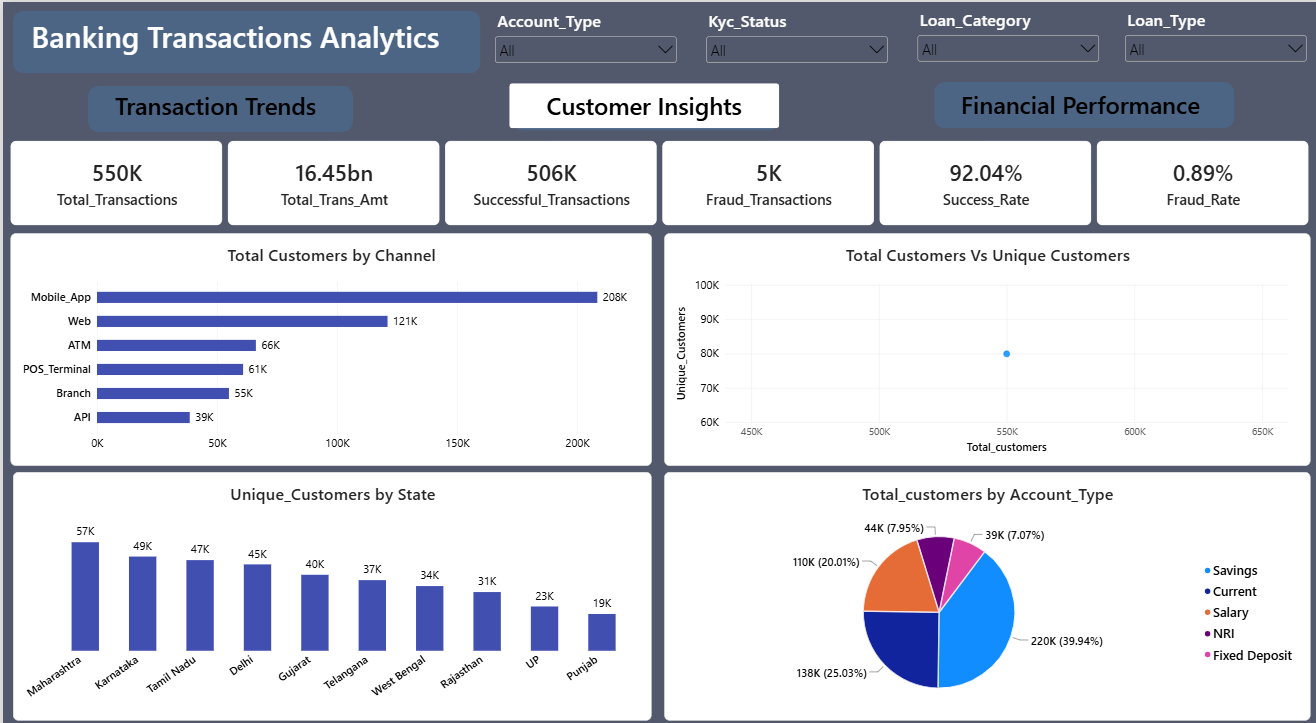

The page's visual inventory and layout, read from the dashboard file:
{"tool":"powerbi","page":{"name":"Customer Insights","canvas":[1920,1060],"ordinal":1},"visuals":[{"type":"shape","box":[14.5,12.7,680,90.9],"z":0},{"type":"textbox","box":[14.5,20,647.3,76.4],"z":1000},{"type":"cardVisual","fields":{"Data":["banking_transactions bank.Total_Transactions","banking_transactions bank.Total_Trans_Amt","banking_transactions bank.Successful_Transactions","banking_transactions bank.Fraud_Transactions","banking_transactions bank.Success_Rate","banking_transactions bank.Fraud_Rate"]},"box":[10.9,201.8,1890.9,123.6],"z":2000},{"type":"shape","box":[123.6,121.8,385.5,67.3],"z":3000},{"type":"textbox","box":[136.4,125.5,361.8,63.6],"z":4000},{"type":"shape","box":[1354.5,116.4,436.4,67.3],"z":5000},{"type":"shape","box":[741.7,119.7,386.5,67.3],"z":5000,"group":"g1"},{"type":"textbox","box":[1378.2,121.8,390.9,63.6],"z":6000},{"type":"textbox","box":[747.7,122.1,367.3,63.6],"z":6000,"group":"g1"},{"type":"slicer","fields":{"Values":["banking_transactions bank.Account_Type"]},"box":[710.9,10.9,273.8,88.1],"z":7000},{"type":"slicer","fields":{"Values":["banking_transactions bank.Loan_Category"]},"box":[1325.5,9.1,273.8,88.1],"z":8000},{"type":"slicer","fields":{"Values":["banking_transactions bank.Kyc_Status"]},"box":[1018.2,10.9,273.8,88.1],"z":9000},{"type":"slicer","fields":{"Values":["banking_transactions bank.Loan_Type"]},"box":[1627.3,9.1,273.8,88.1],"z":10000},{"type":"group","id":"g1","title":"Group 1","box":[741.7,119.7,386.5,67.3],"z":11000},{"type":"clusteredColumnChart","fields":{"Category":["banking_transactions bank.State"],"Y":["banking_transactions bank.Unique_Customers"]},"box":[14.5,683.6,929.1,361.8],"z":13000},{"type":"clusteredBarChart","title":"Total Customers by Channel","fields":{"Category":["banking_transactions bank.Channel"],"Y":["banking_transactions bank.Total_customers"]},"box":[10.9,336.4,932.7,338.2],"z":14000},{"type":"scatterChart","title":"Total Customers Vs Unique Customers","fields":{"X":["banking_transactions bank.Total_customers"],"Y":["banking_transactions bank.Unique_Customers"]},"box":[961.8,336.4,940,338.2],"z":15000},{"type":"pieChart","fields":{"Category":["banking_transactions bank.Account_Type"],"Y":["banking_transactions bank.Total_customers"]},"box":[961.8,683.6,940,361.8],"z":16000}]}

Visuals, with their boxes in screenshot pixels (x1, y1, x2, y2), scaled from the page's 1920x1060 canvas onto the 1316x723 screenshot:
shape: bbox=(10, 9, 476, 71)
textbox: bbox=(10, 14, 454, 66)
cardVisual - banking_transactions bank.Total_Transactions x banking_transactions bank.Total_Trans_Amt: bbox=(7, 138, 1304, 222)
shape: bbox=(85, 83, 349, 129)
textbox: bbox=(93, 86, 341, 129)
shape: bbox=(928, 79, 1228, 125)
shape: bbox=(508, 82, 773, 128)
textbox: bbox=(945, 83, 1213, 126)
textbox: bbox=(512, 83, 764, 127)
slicer - banking_transactions bank.Account_Type: bbox=(487, 7, 675, 68)
slicer - banking_transactions bank.Loan_Category: bbox=(909, 6, 1096, 66)
slicer - banking_transactions bank.Kyc_Status: bbox=(698, 7, 886, 68)
slicer - banking_transactions bank.Loan_Type: bbox=(1115, 6, 1303, 66)
"Group 1" group: bbox=(508, 82, 773, 128)
clusteredColumnChart - banking_transactions bank.State x banking_transactions bank.Unique_Customers: bbox=(10, 466, 647, 713)
"Total Customers by Channel" clusteredBarChart: bbox=(7, 229, 647, 460)
"Total Customers Vs Unique Customers" scatterChart: bbox=(659, 229, 1304, 460)
pieChart - banking_transactions bank.Account_Type x banking_transactions bank.Total_customers: bbox=(659, 466, 1304, 713)
